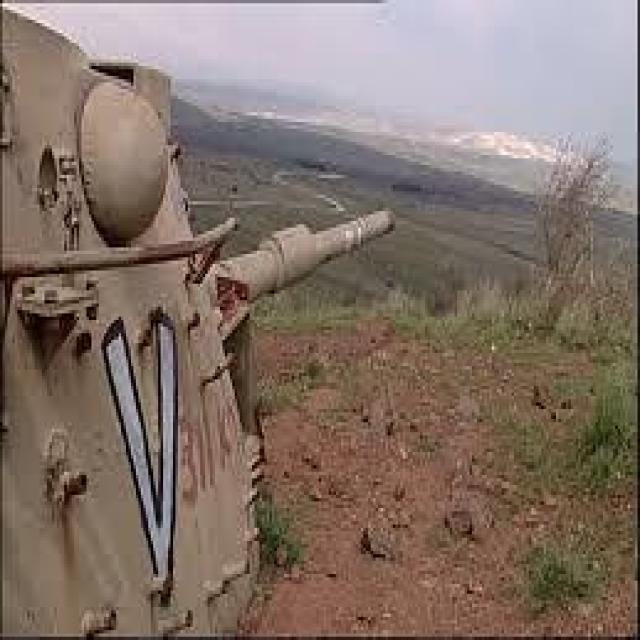Tanks: (5, 18, 422, 596)
